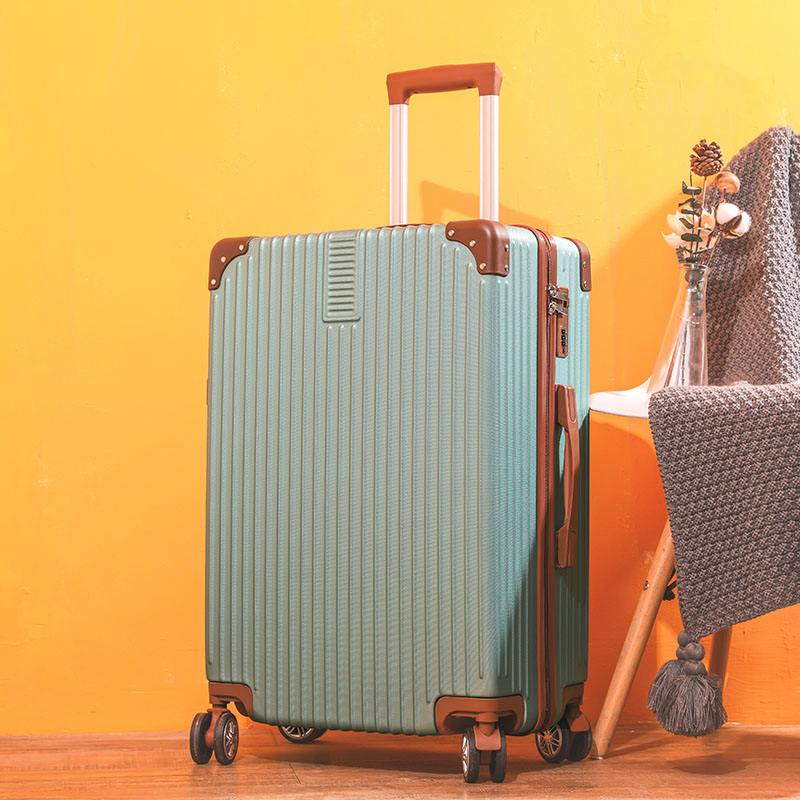box: (204, 219, 590, 735)
handle: (556, 383, 580, 569)
lock: (550, 285, 570, 358)
wheel: (535, 710, 592, 764), (189, 709, 240, 766), (461, 727, 507, 784)
